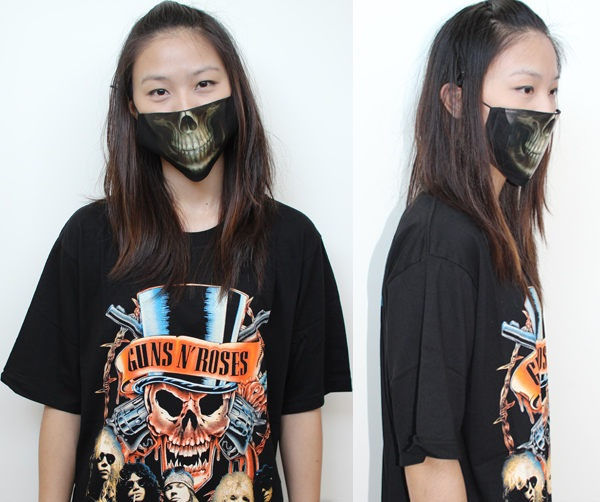face_mask: (130, 29, 234, 162), (464, 35, 563, 171)
